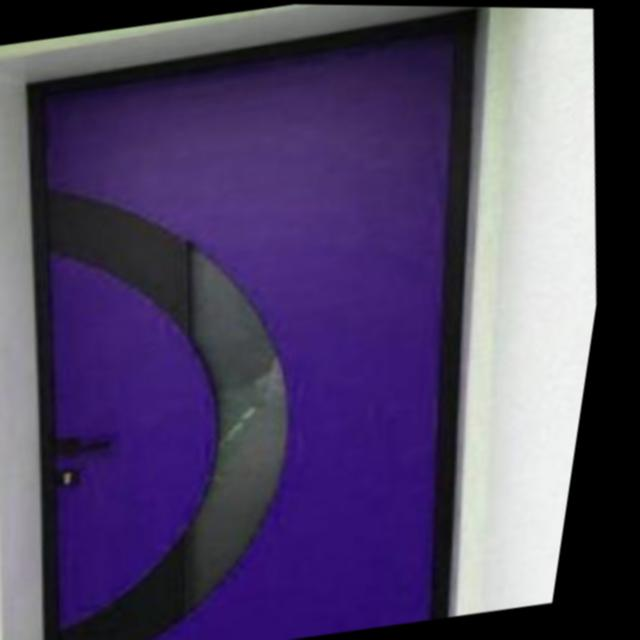door_handle: (50, 417, 139, 468)
